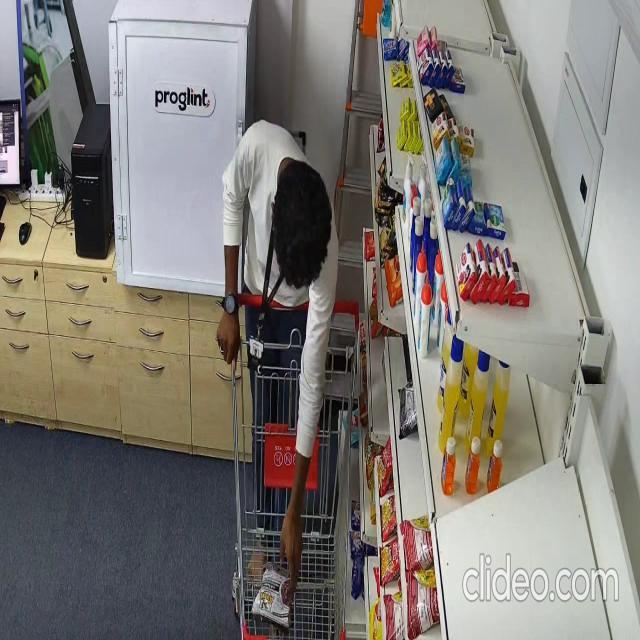normal: (218, 120, 344, 614)
